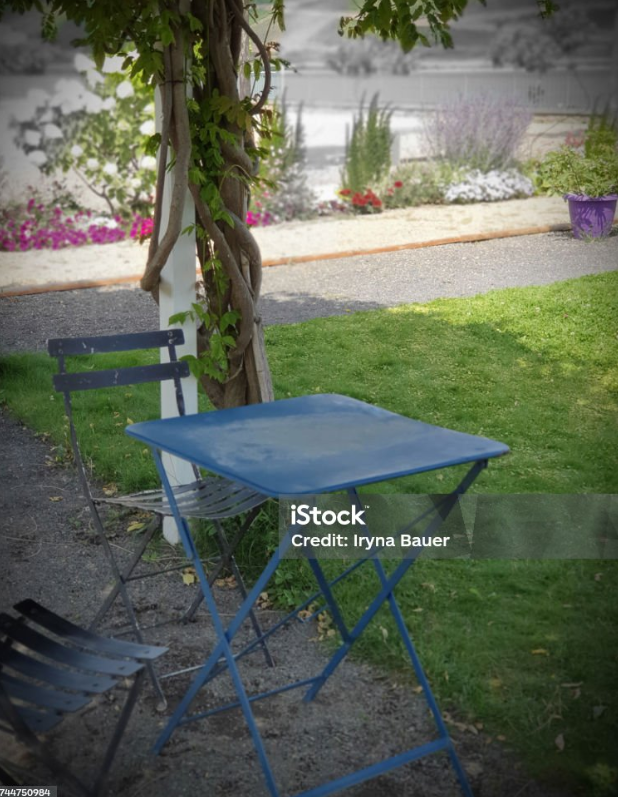obstacle: (115, 387, 510, 781), (46, 325, 279, 670)
